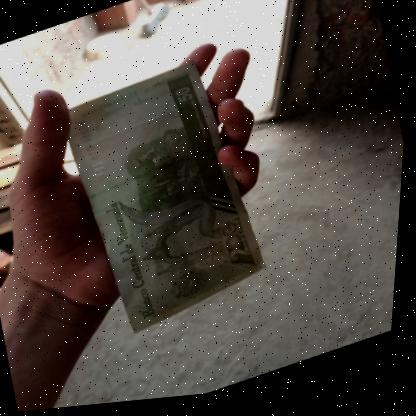fifty-back-vef: (49, 50, 287, 350)
